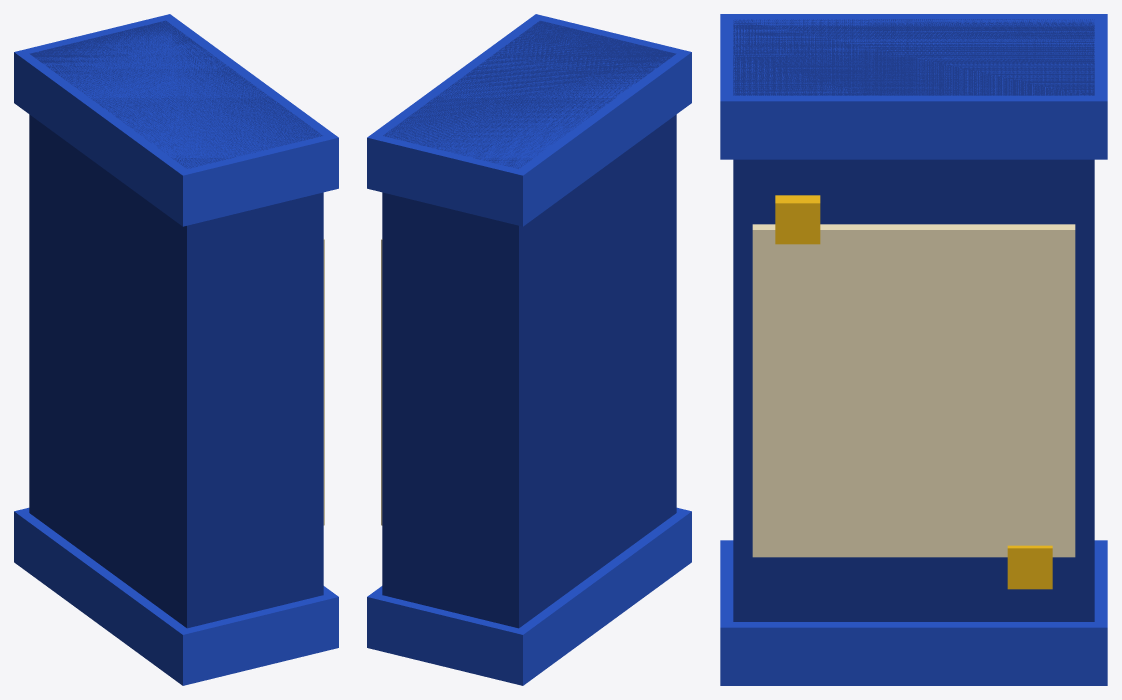
File: wall.glb
3 renders of one model, left to right at view 1: azimuth 30°, elevation 25°; view 2: azimuth 150°, elevation 25°; view 3: azimuth 270°, elevation 25°, orthographic. The views are drawn at different scales.
Parts seen in each view (by area): view 1: Wall; view 2: Wall; view 3: Wall.
Boxes of the visible parts, x1,y1,x2,y2 form: Wall: [14, 14, 338, 685]; Wall: [367, 14, 691, 685]; Wall: [720, 14, 1107, 685].
Bounding box in the file's own units: 0.33 × 1 × 0.6.
1 material, 1 textured.
